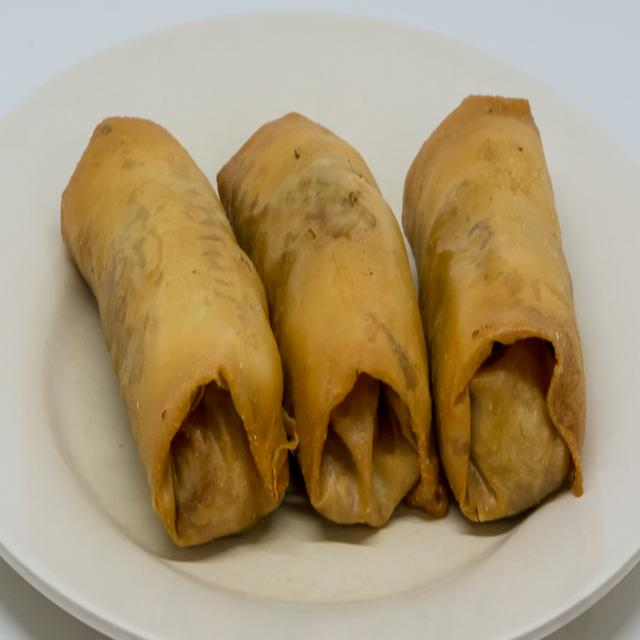Lumpia-Semarang: (36, 77, 596, 567)
